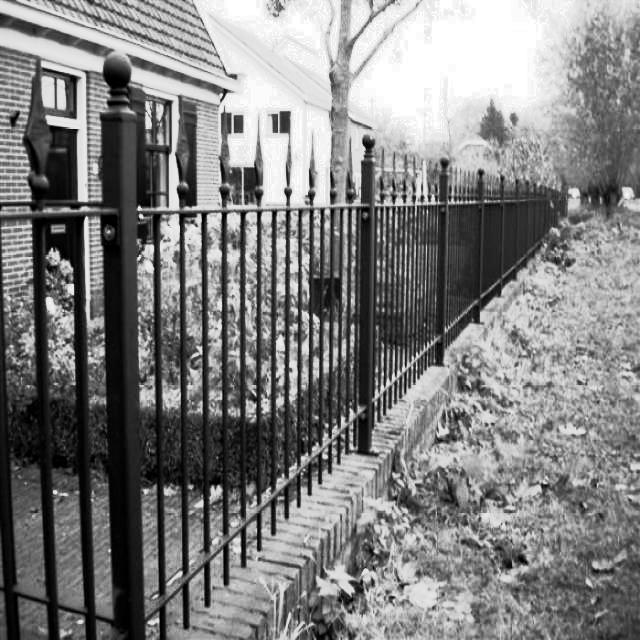fences: (0, 158, 299, 606), (324, 192, 554, 434)
